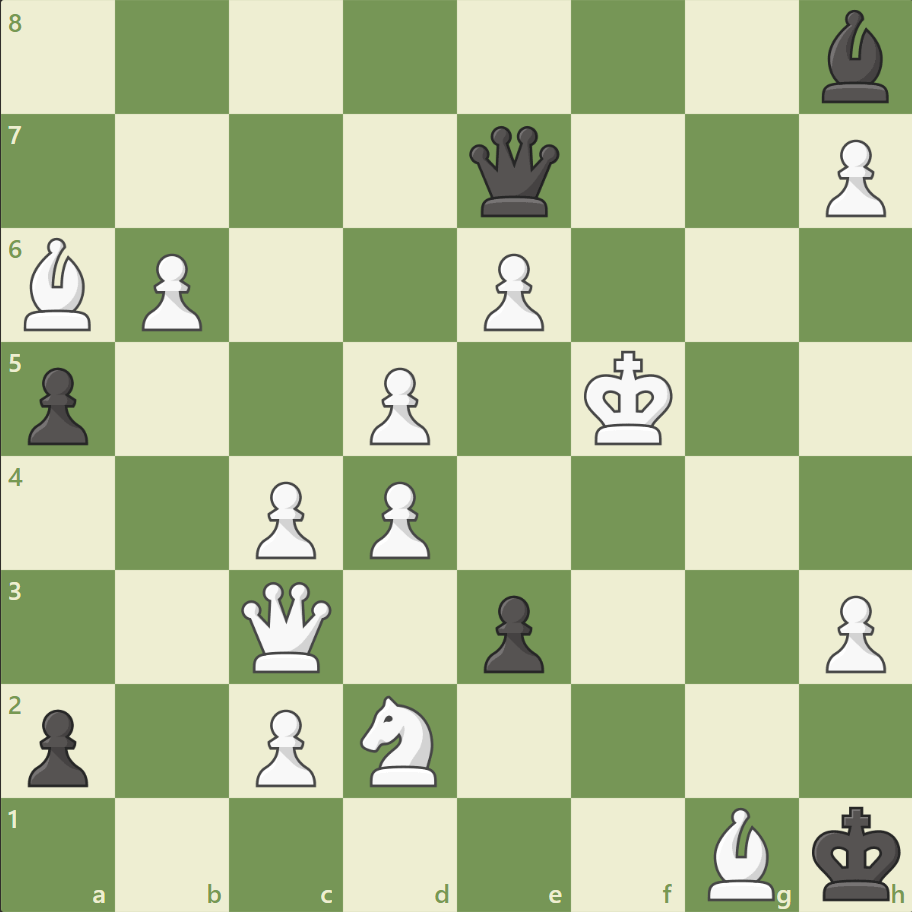B: (17, 233, 101, 336), (698, 801, 782, 904)
K: (579, 344, 679, 452)
N: (351, 688, 449, 791)
P: (133, 246, 208, 337), (474, 246, 549, 337), (247, 473, 322, 564), (247, 700, 322, 791), (815, 132, 889, 223), (361, 359, 435, 450), (361, 473, 435, 564), (815, 586, 889, 677)
Q: (237, 576, 336, 676)
b: (812, 6, 896, 109)
k: (806, 798, 906, 906)
p: (20, 359, 95, 450), (474, 586, 549, 677), (20, 700, 95, 791)
q: (464, 122, 563, 222)
